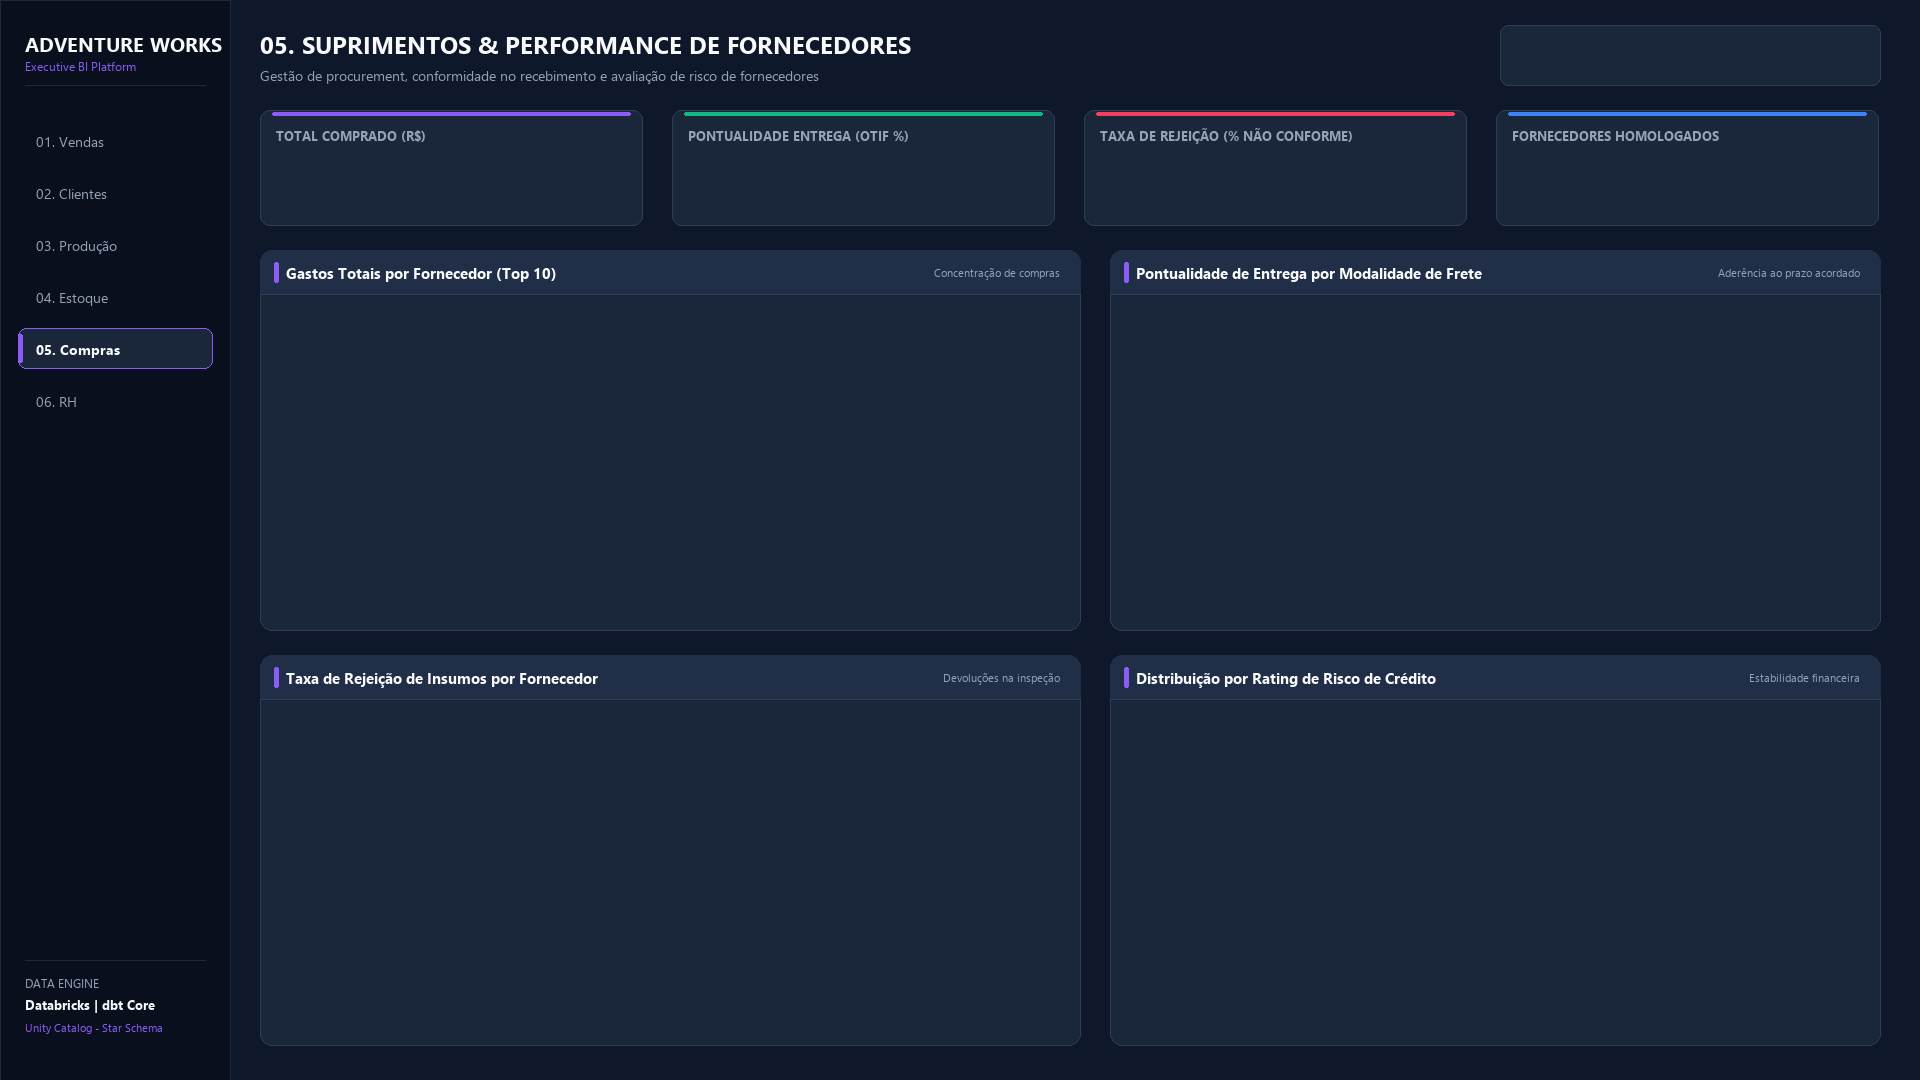

The page's visual inventory and layout, read from the dashboard file:
{"tool":"powerbi","page":{"name":"Compras","canvas":[1920,1080],"ordinal":4},"visuals":[{"type":"slicer","fields":{"Values":["dates.calendar_date"]},"box":[1510,35,360,45],"z":0},{"type":"cardVisual","fields":{"Data":["d_Medidas.Total Compras (R$)"]},"box":[260,140,380,75],"z":1000},{"type":"cardVisual","fields":{"Data":["d_Medidas.Pontualidade Fornecedores %"]},"box":[670,140,380,75],"z":2000},{"type":"cardVisual","fields":{"Data":["d_Medidas.Taxa de Rejeição Fornecedores %"]},"box":[1080,140,380,75],"z":3000},{"type":"cardVisual","fields":{"Data":["d_Medidas.Fornecedores Ativos"]},"box":[1490,140,380,75],"z":4000},{"type":"clusteredBarChart","fields":{"Category":["vendors.vendor_name"],"Y":["d_Medidas.Total Compras (R$)"]},"box":[270,298,800,320],"z":5000},{"type":"clusteredColumnChart","fields":{"Category":["products.category_name"],"Y":["d_Medidas.Pontualidade Fornecedores %"]},"box":[1120,298,750,320],"z":6000},{"type":"clusteredColumnChart","fields":{"Category":["vendors.vendor_name"],"Y":["d_Medidas.Taxa de Rejeição Fornecedores %"]},"box":[270,702,800,330],"z":7000},{"type":"donutChart","fields":{"Category":["vendors.credit_rating_description"],"Y":["d_Medidas.Total Compras (R$)"]},"box":[1120,702,750,330],"z":8000}]}

Visuals, with their boxes on the page's 1920x1080 design canvas (x1, y1, x2, y2). These are canvas units, not pixel positions in the 1920x1080 screenshot, which may show the page scaled, cropped or inside an application window:
slicer - dates.calendar_date: box(1510, 35, 1870, 80)
cardVisual - d_Medidas.Total Compras (R$): box(260, 140, 640, 215)
cardVisual - d_Medidas.Pontualidade Fornecedores %: box(670, 140, 1050, 215)
cardVisual - d_Medidas.Taxa de Rejeição Fornecedores %: box(1080, 140, 1460, 215)
cardVisual - d_Medidas.Fornecedores Ativos: box(1490, 140, 1870, 215)
clusteredBarChart - vendors.vendor_name x d_Medidas.Total Compras (R$): box(270, 298, 1070, 618)
clusteredColumnChart - products.category_name x d_Medidas.Pontualidade Fornecedores %: box(1120, 298, 1870, 618)
clusteredColumnChart - vendors.vendor_name x d_Medidas.Taxa de Rejeição Fornecedores %: box(270, 702, 1070, 1032)
donutChart - vendors.credit_rating_description x d_Medidas.Total Compras (R$): box(1120, 702, 1870, 1032)
